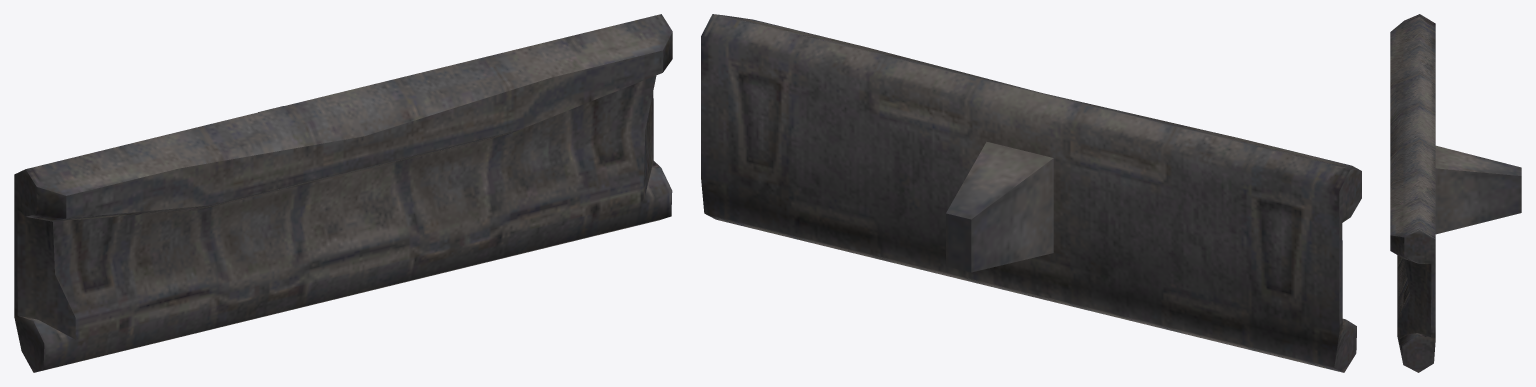
3 views of the same model, side by side, from view 1: azimuth 30°, elevation 25°; view 2: azimuth 150°, elevation 25°; view 3: azimuth 270°, elevation 25° (orthographic). The views are drawn at different scales.
Visible parts, largest first — view 1: set_0_group_0; view 2: set_0_group_0; view 3: set_0_group_0.
Boxes of the visible parts, box(x1,y1,x2,y2) form: set_0_group_0: box(14, 14, 672, 372); set_0_group_0: box(701, 14, 1361, 372); set_0_group_0: box(1390, 14, 1521, 372).
Bounding box in the file's own units: 0.5771 × 0.1777 × 0.1476.
Materials: 1 (1 with a texture image).
